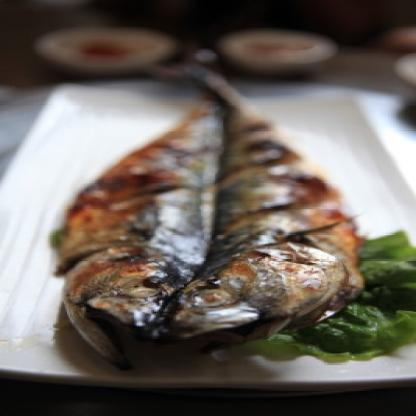Peixe: (32, 57, 336, 364)
